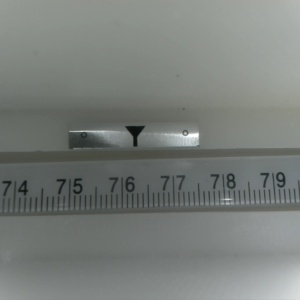4: (17, 181, 28, 196)
5: (72, 178, 82, 195)
6: (124, 176, 135, 192)
7: (0, 180, 12, 196), (55, 179, 66, 195), (108, 177, 119, 192), (159, 175, 169, 191), (175, 175, 185, 190), (259, 173, 269, 188), (210, 174, 219, 189)
8: (226, 174, 235, 189)
9: (276, 172, 285, 188)
finger: (123, 126, 145, 148)
